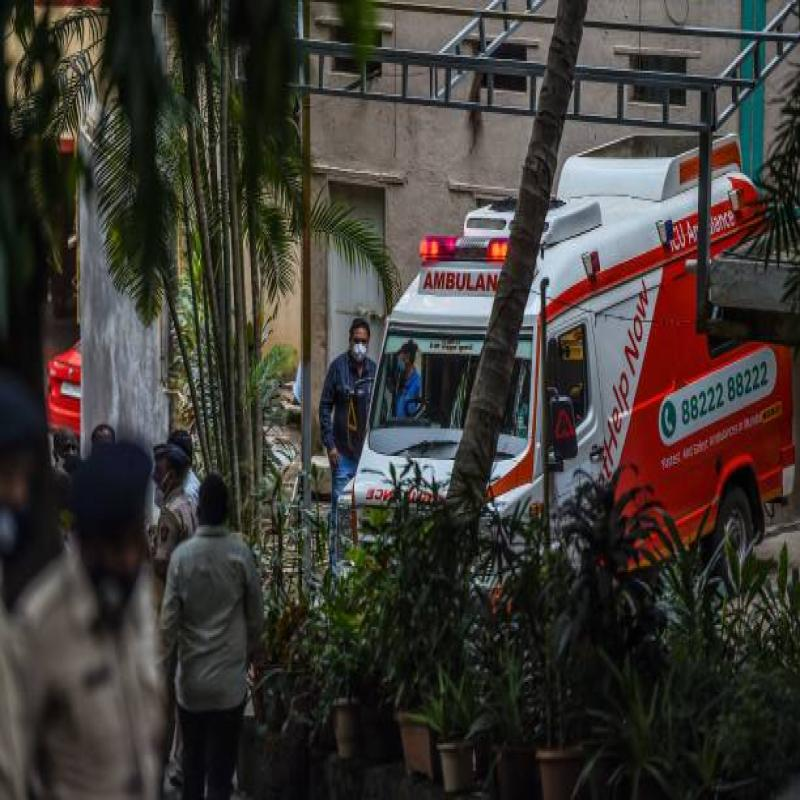ambulance: (380, 159, 800, 574)
